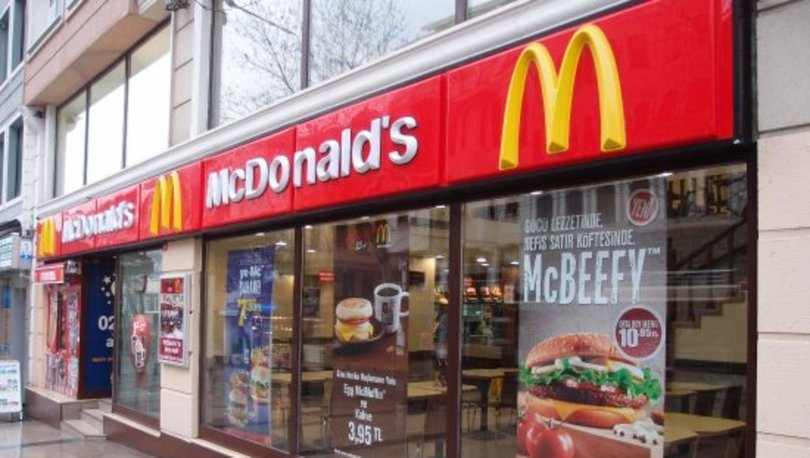mcdonalds: (481, 22, 641, 174)
